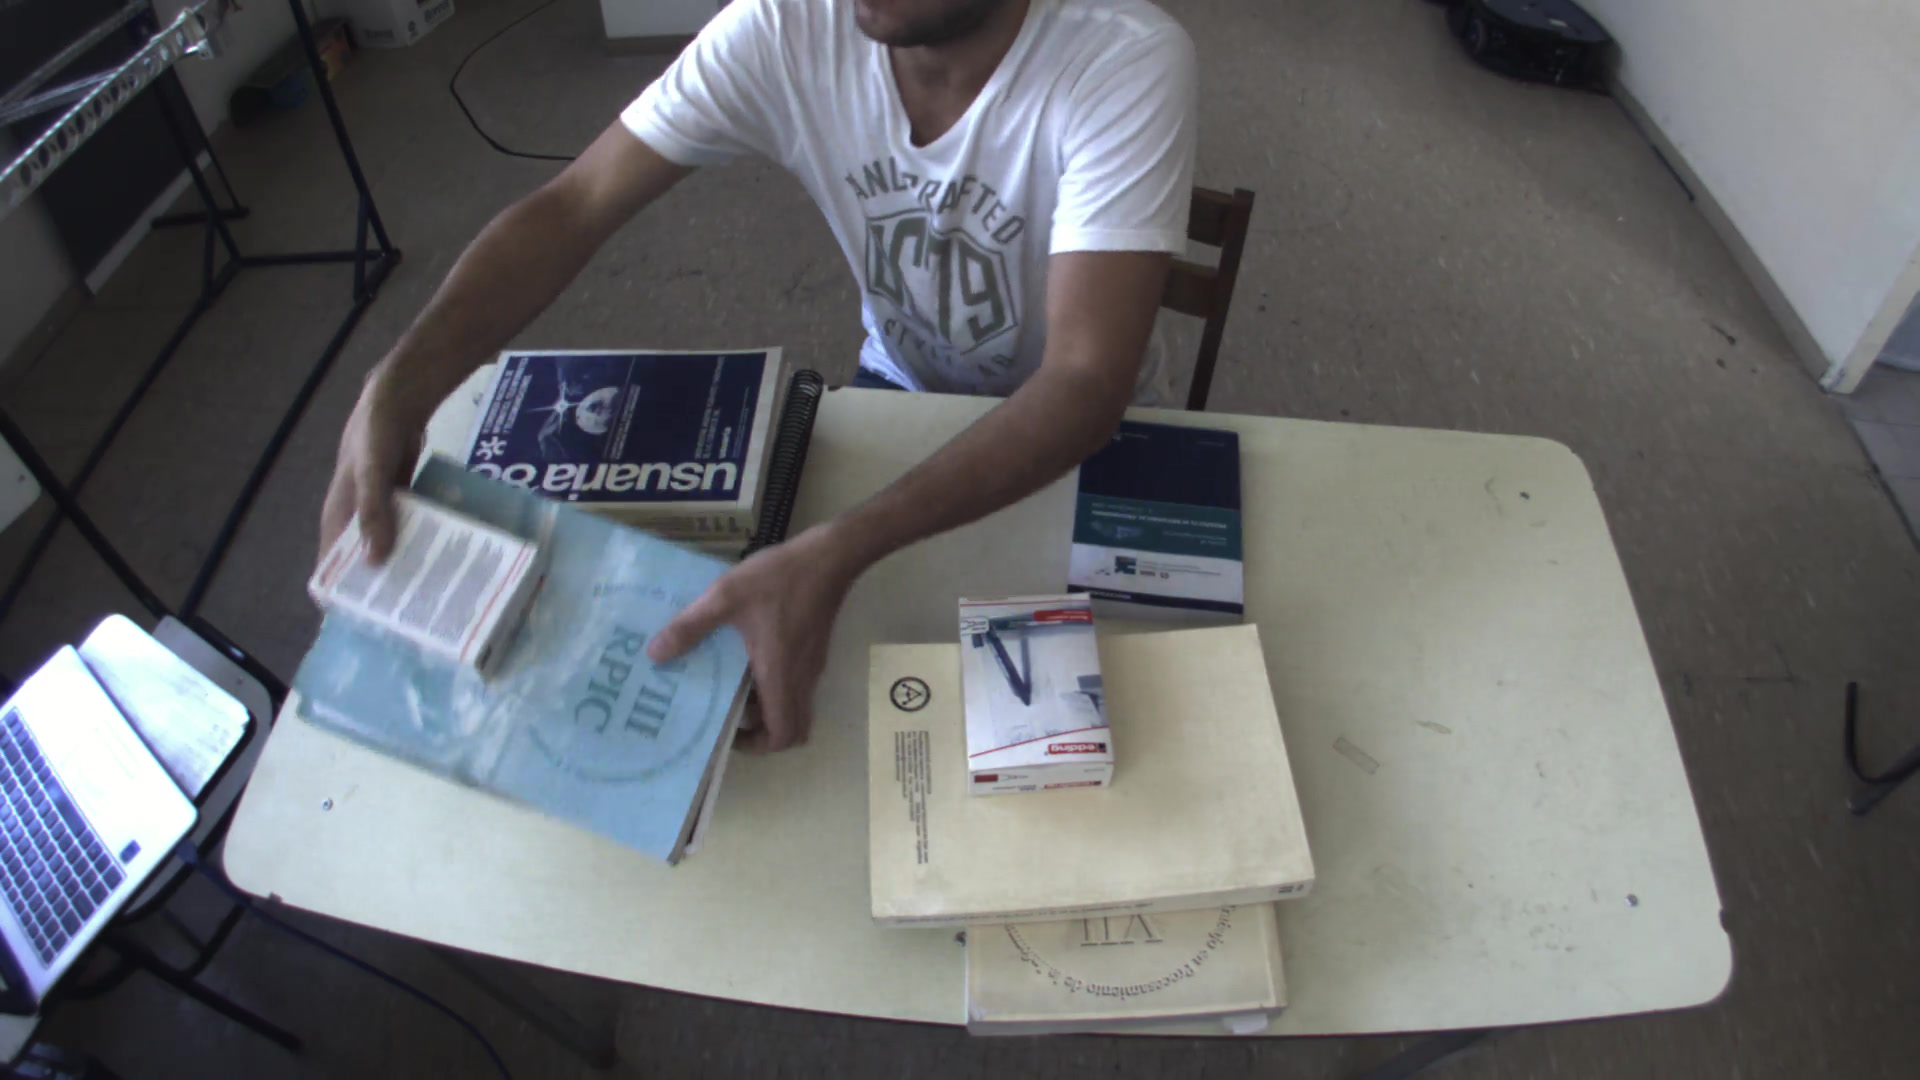hand: (646, 529, 835, 737), (299, 376, 415, 618)
